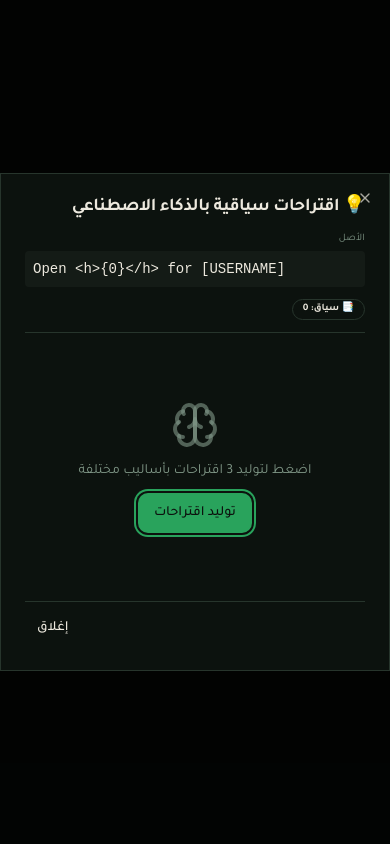
Test: ContextSuggestPanel — LumenTale token contract › shows the token difference and blocks a LumenTale suggestion that omits a runtime token
Click the button "توليد اقتراحات": (195, 513) [138, 493, 252, 533]
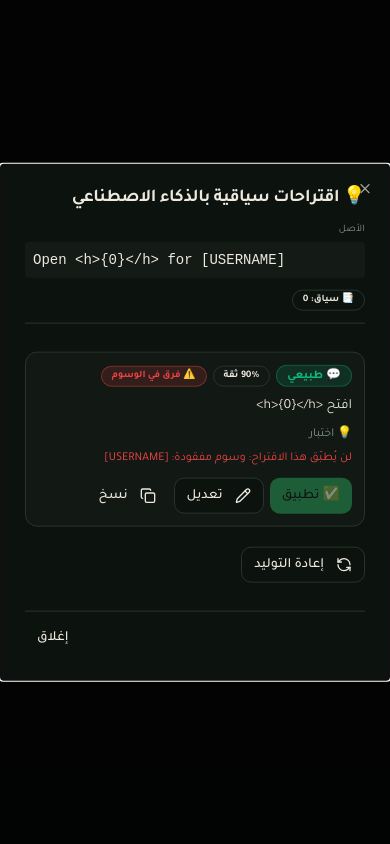
Check: the text "⚠️ فرق في الوسوم" is shown, box [101, 365, 207, 386]
Check: the text "لن يُطبّق هذا الاقتراح: وسوم مفقودة: [USERNAME]" is shown, box [104, 451, 352, 463]
Check: the button "✅ تطبيق" is disabled, box [270, 477, 352, 513]
